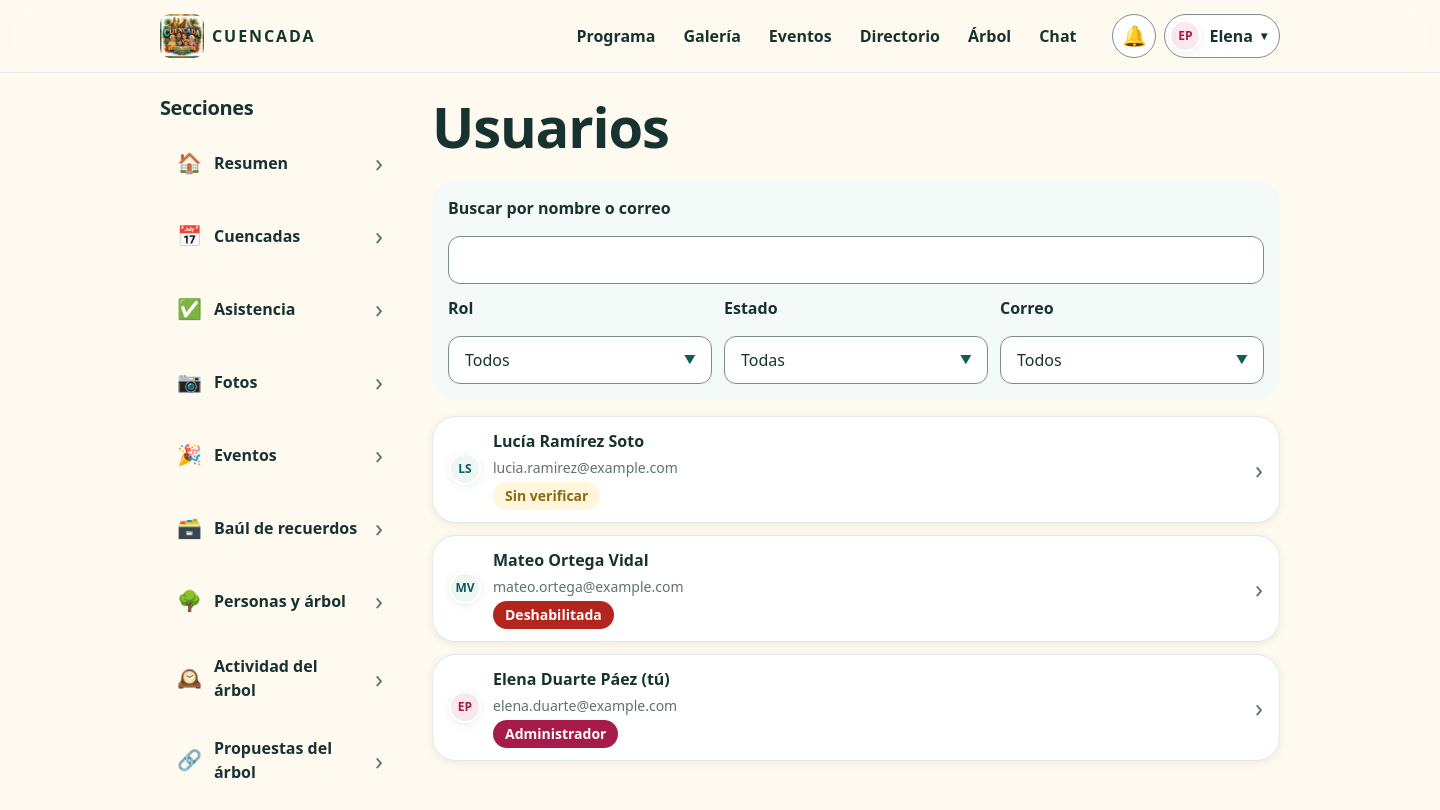
UsersPage › disables an account only after a confirmation that explains the consequences
Click the button "Lucía Ramírez Soto" at (465, 469), box [432,416,1280,523]
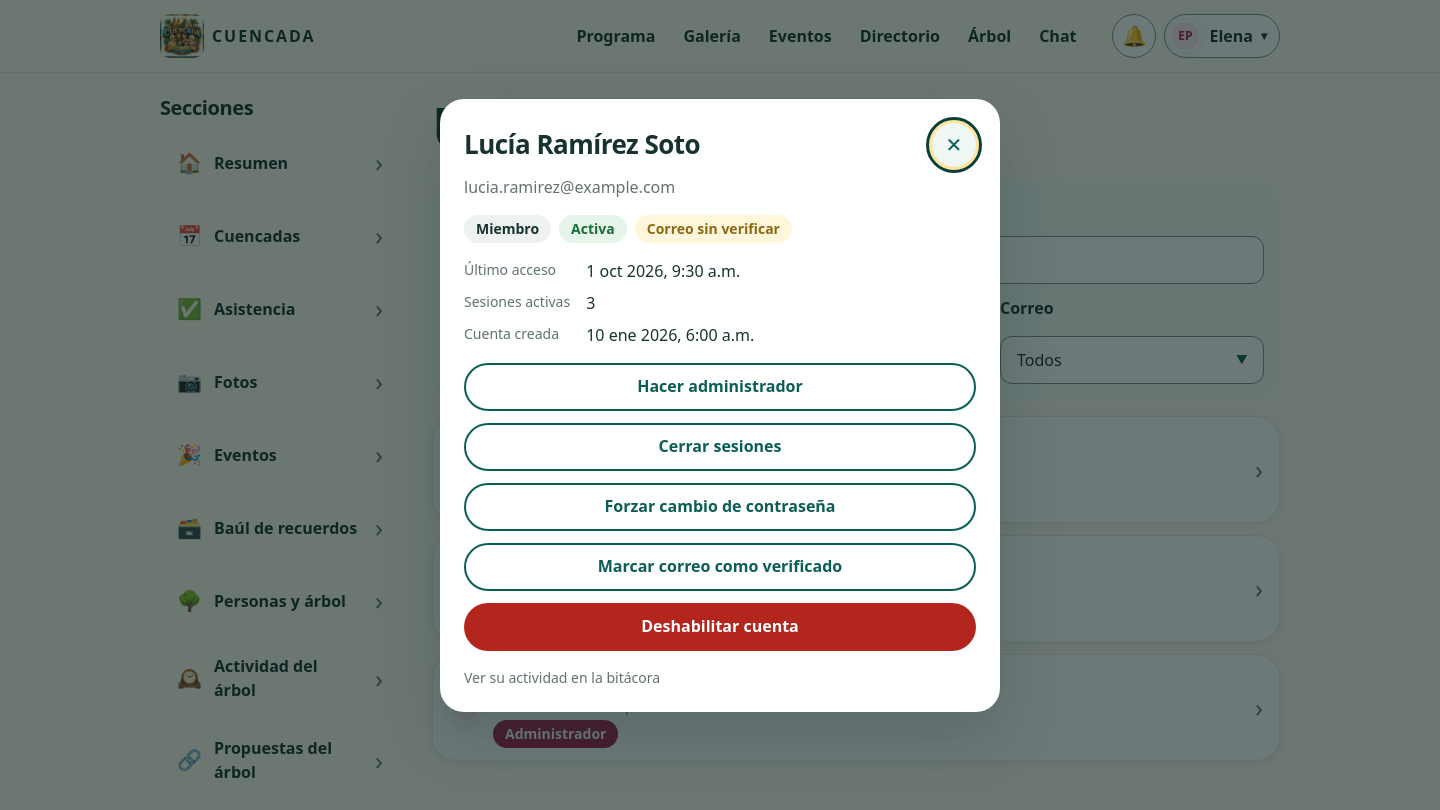
Click the button "Deshabilitar cuenta" at (720, 626), box [464,602,976,650]
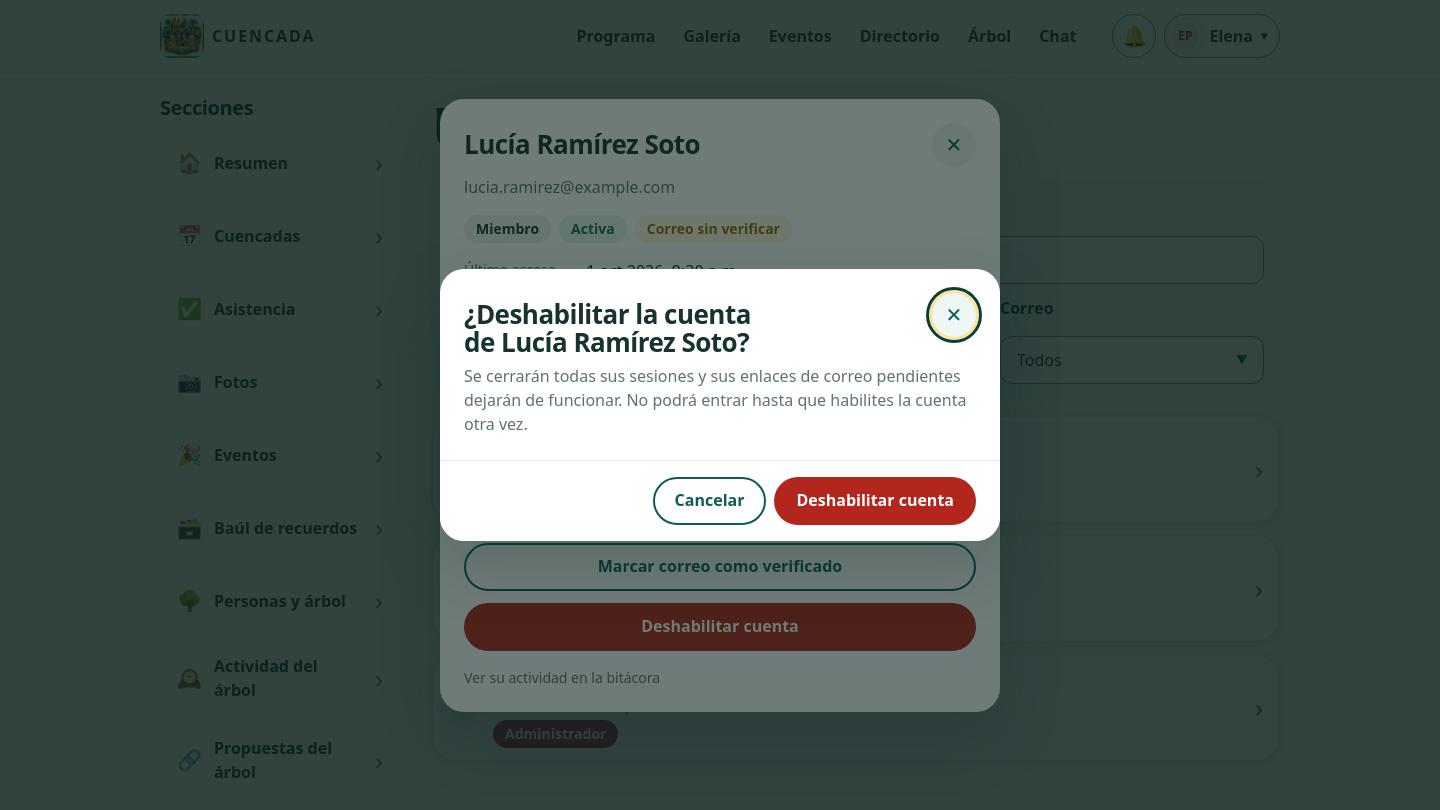
Check: the dialog "¿Deshabilitar la cuenta de Lucía Ramírez Soto?" does not show "Los demás administradores", box [440,269,1000,541]
Check: the dialog "¿Deshabilitar la cuenta de Lucía Ramírez Soto?" shows "Se cerrarán todas sus sesiones", box [464,365,966,435]
Click the button "Cancelar" at (710, 501), box [653,477,766,525]
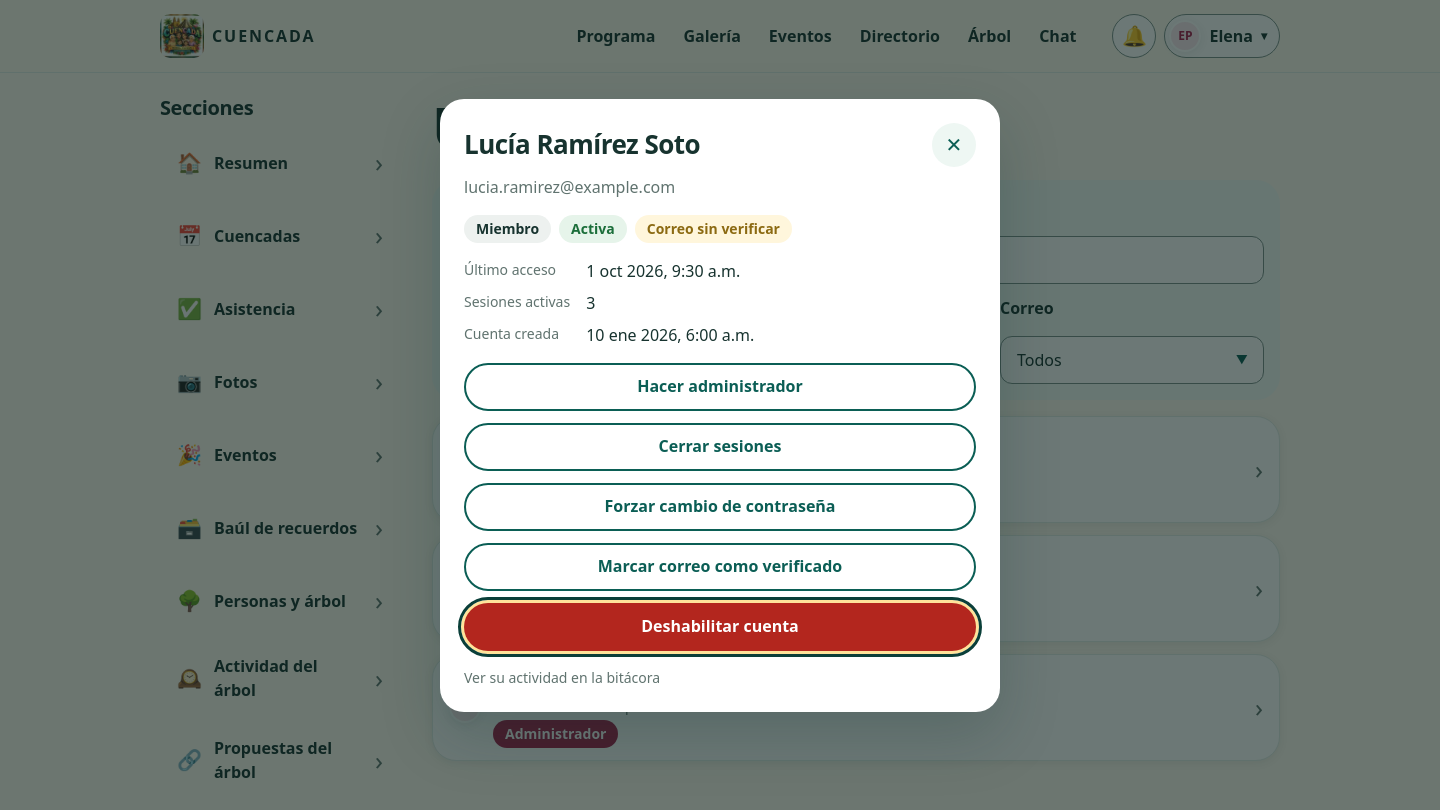
Click the button "Deshabilitar cuenta" at (720, 626), box [464,602,976,650]
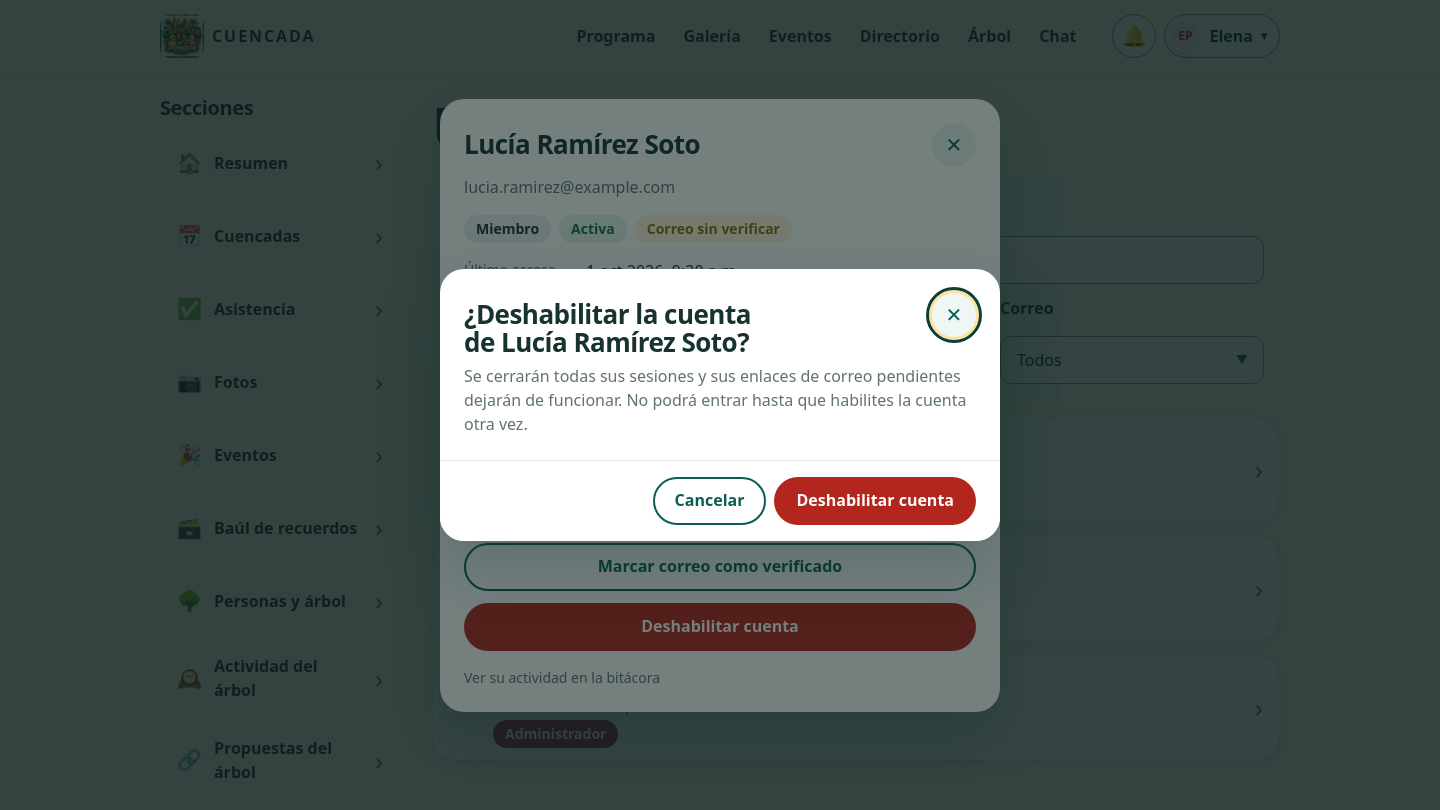
Click the button "Deshabilitar cuenta" at (875, 501), box [774,477,976,525]
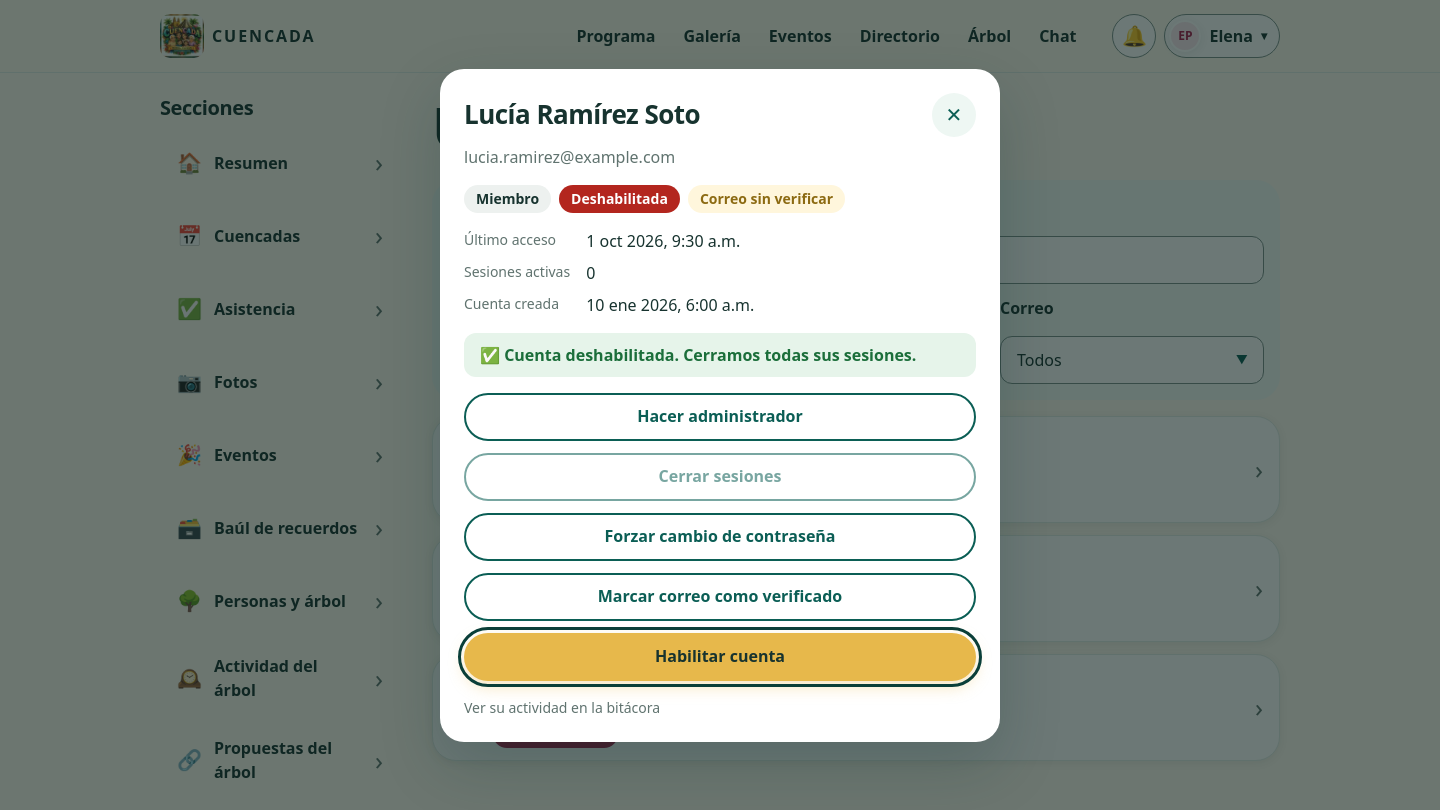
Check: the button "Habilitar cuenta" is shown, box [464,632,976,680]
Check: the text "Cuenta deshabilitada. Cerramos todas sus sesiones." is shown, box [504,344,916,366]
Check: the text "Deshabilitada" is shown, box [571,192,668,206]
